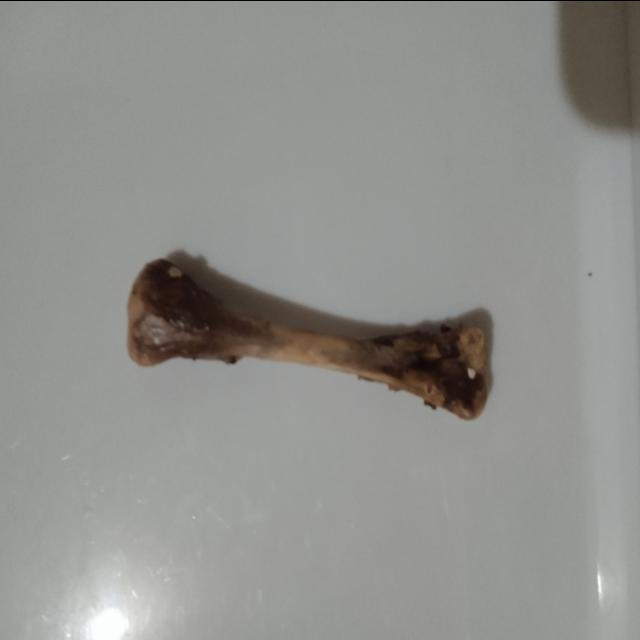bone: (121, 253, 497, 427)
